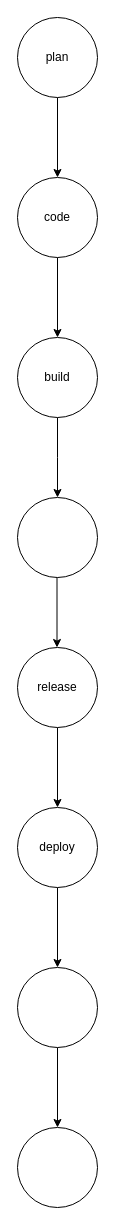
Image size: 115x1225. Some labels were removed from this diagram. The shapes that lost their labels are listed below. From the top down, each one's centre as x and y in pixels, then its label:
pixel 57 537: test
pixel 57 1007: operate
